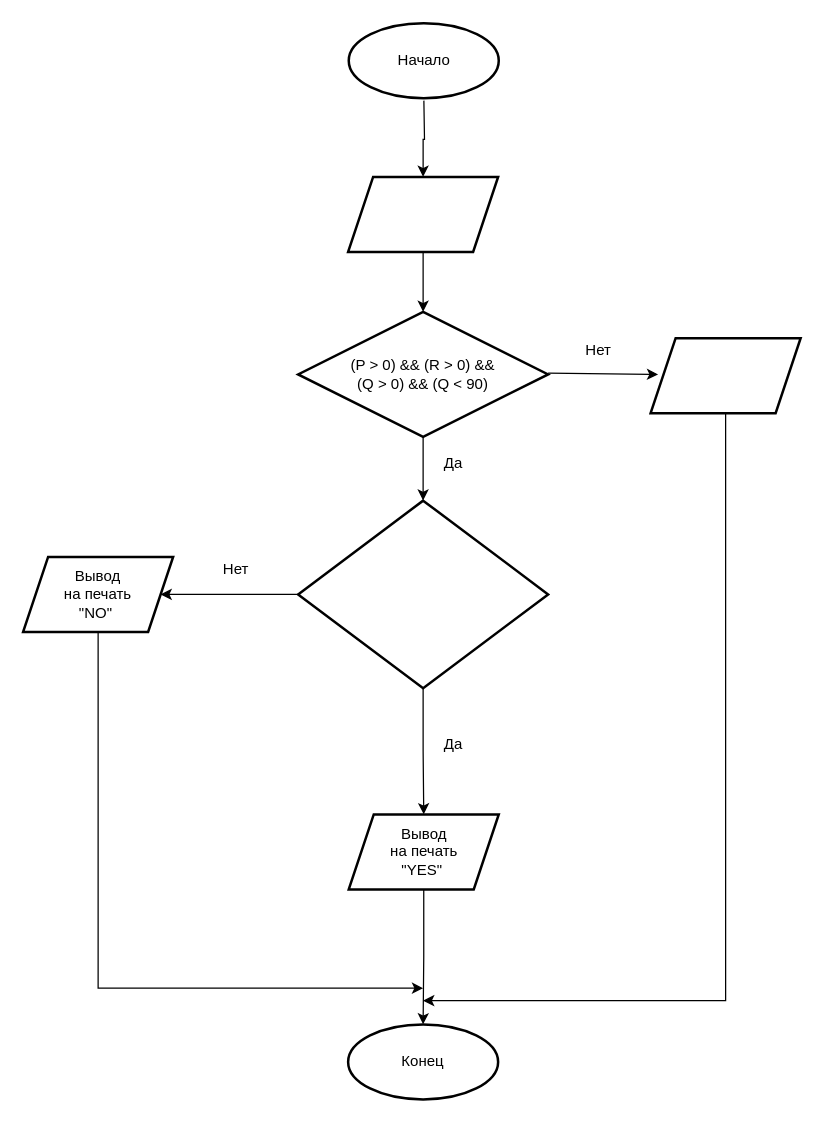
Image size: 823x1121. Some labels were removed from this diagram. The shapes that lost their labels are listed below. From the top down, each one's box as (x1, y1, x2, y2) in pixels, then its label:
(346, 175, 499, 252): Введите R, P, Q
(649, 336, 801, 414): Вывод на печать "Incorrect input"
(296, 499, 549, 689): R <= (P * sin(Q * M_PI / 180) / 2)
